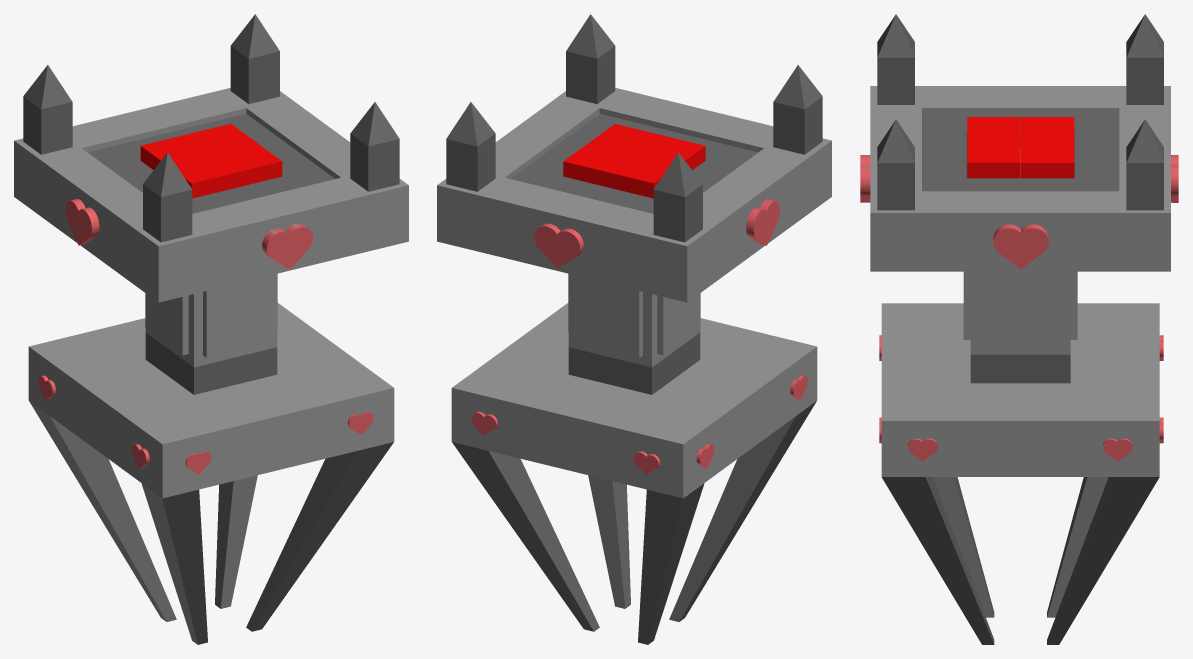
The model's file is HealingAltar.fbx.
3 views of the same model, side by side, from view 1: azimuth 30°, elevation 25°; view 2: azimuth 150°, elevation 25°; view 3: azimuth 270°, elevation 25° (orthographic). The views are drawn at different scales.
Visible parts, largest first — view 1: Altar, Opening2, Opening1; view 2: Altar, Opening1, Opening2; view 3: Altar, Opening2, Opening1.
Boxes of the visible parts, x1,y1,x2,y2 form: Altar: (14, 14, 408, 644); Opening2: (175, 142, 282, 198); Opening1: (140, 123, 256, 169); Altar: (437, 14, 831, 644); Opening1: (563, 142, 670, 198); Opening2: (590, 124, 705, 169); Altar: (860, 14, 1178, 644); Opening2: (967, 117, 1020, 178); Opening1: (1021, 117, 1074, 178).
Bounding box in the file's own units: 229 × 446 × 229.
